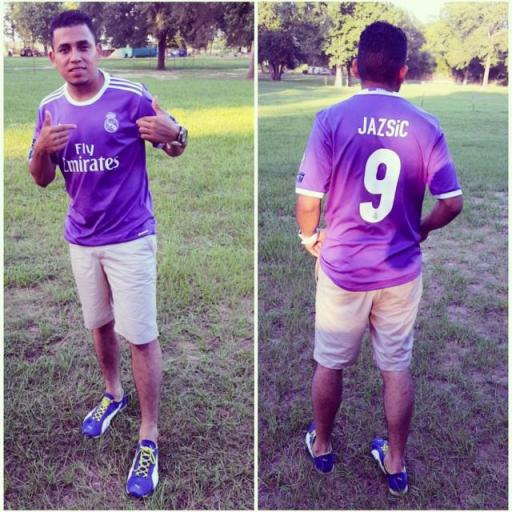Emirates: (61, 140, 121, 176)
